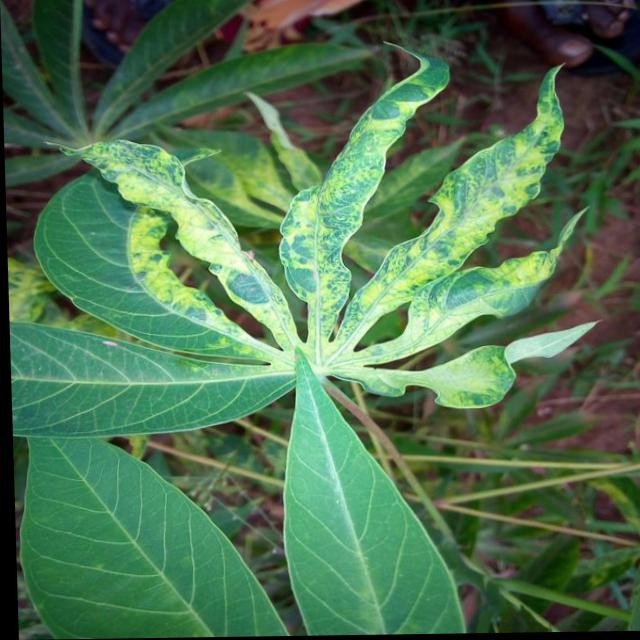Mosaico: (115, 47, 556, 430)
